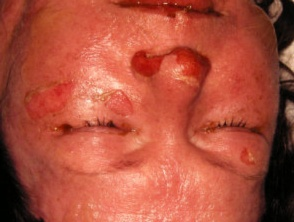SJS-TEN: (0, 0, 284, 222)
